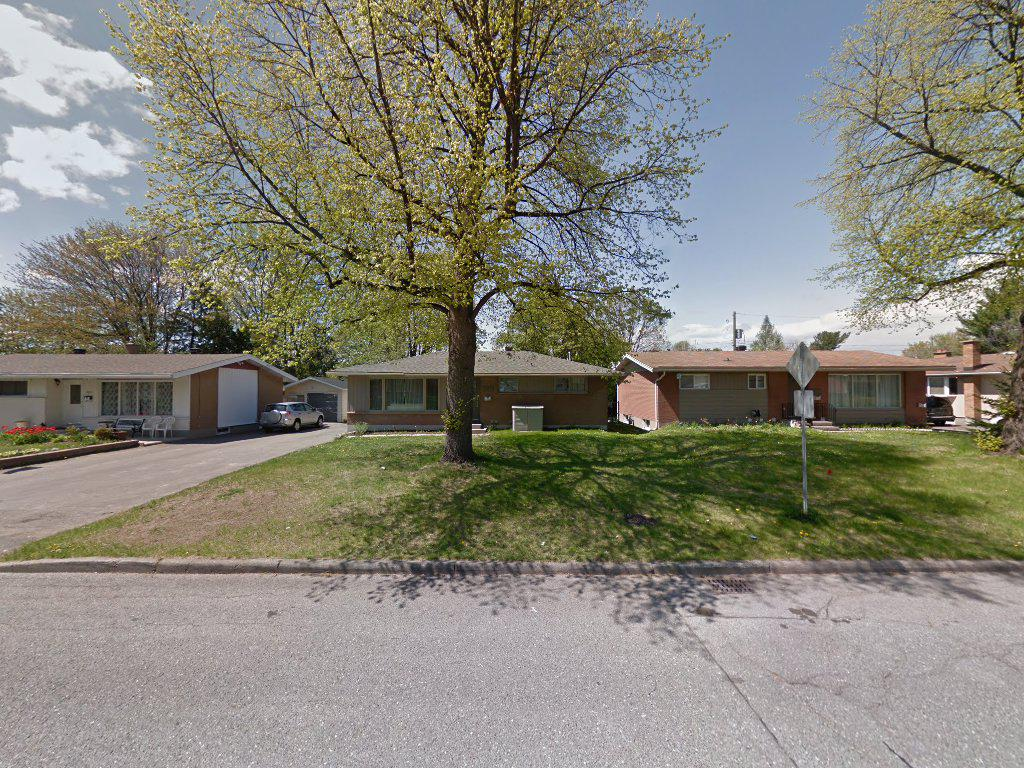trunk: (441, 253, 481, 473)
